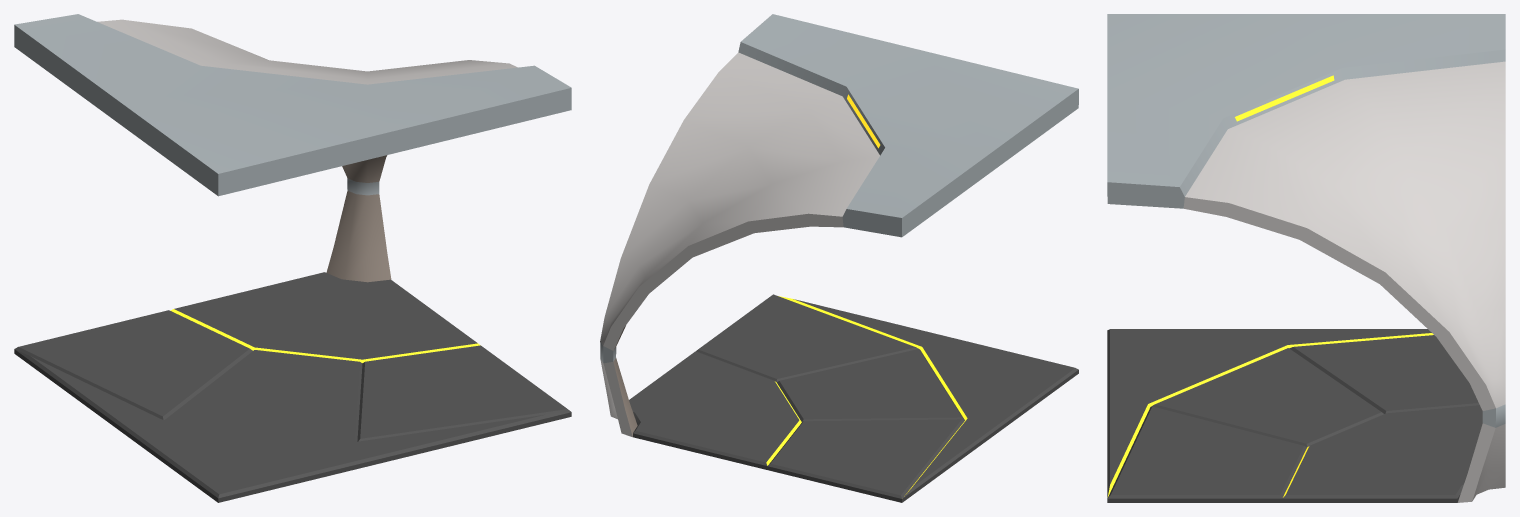
File: inside_corner.glb
The picture shows the model from 3 angles, left to right: view 1: azimuth 30°, elevation 25°; view 2: azimuth 150°, elevation 25°; view 3: azimuth 270°, elevation 25°; orthographic projection. The views are drawn at different scales.
Visible parts, largest first — view 1: floor_inside-corner, inside_corner; view 2: inside_corner, floor_inside-corner; view 3: inside_corner, floor_inside-corner.
Boxes of the visible parts, x1,y1,x2,y2 form: floor_inside-corner: (14, 272, 571, 502); inside_corner: (14, 14, 571, 282); inside_corner: (600, 14, 1078, 437); floor_inside-corner: (629, 294, 1078, 502); inside_corner: (1107, 14, 1505, 502); floor_inside-corner: (1107, 329, 1482, 502).
Size of what is drawn, in the model's own units: 3 by 2.67 by 3.
